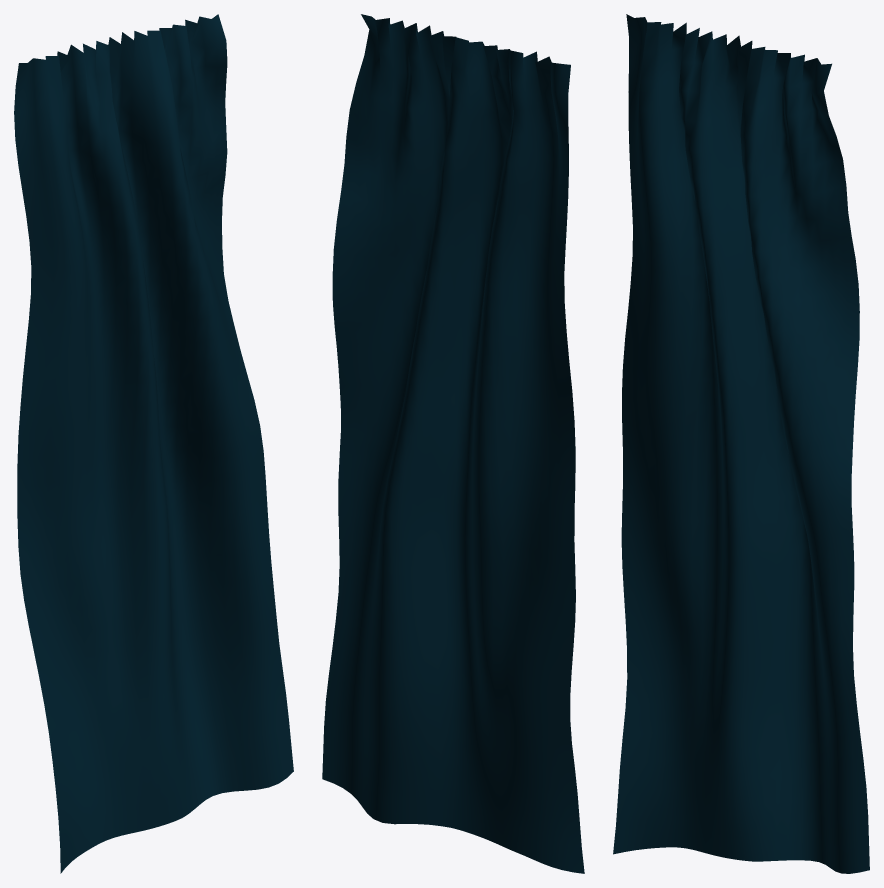
The model's file is CourtainRoom.obj.
3 renders of one model, left to right at view 1: azimuth 30°, elevation 25°; view 2: azimuth 150°, elevation 25°; view 3: azimuth 330°, elevation 25°, orthographic. The views are drawn at different scales.
Bounding box in the file's own units: 52.94 × 156 × 13.92.
